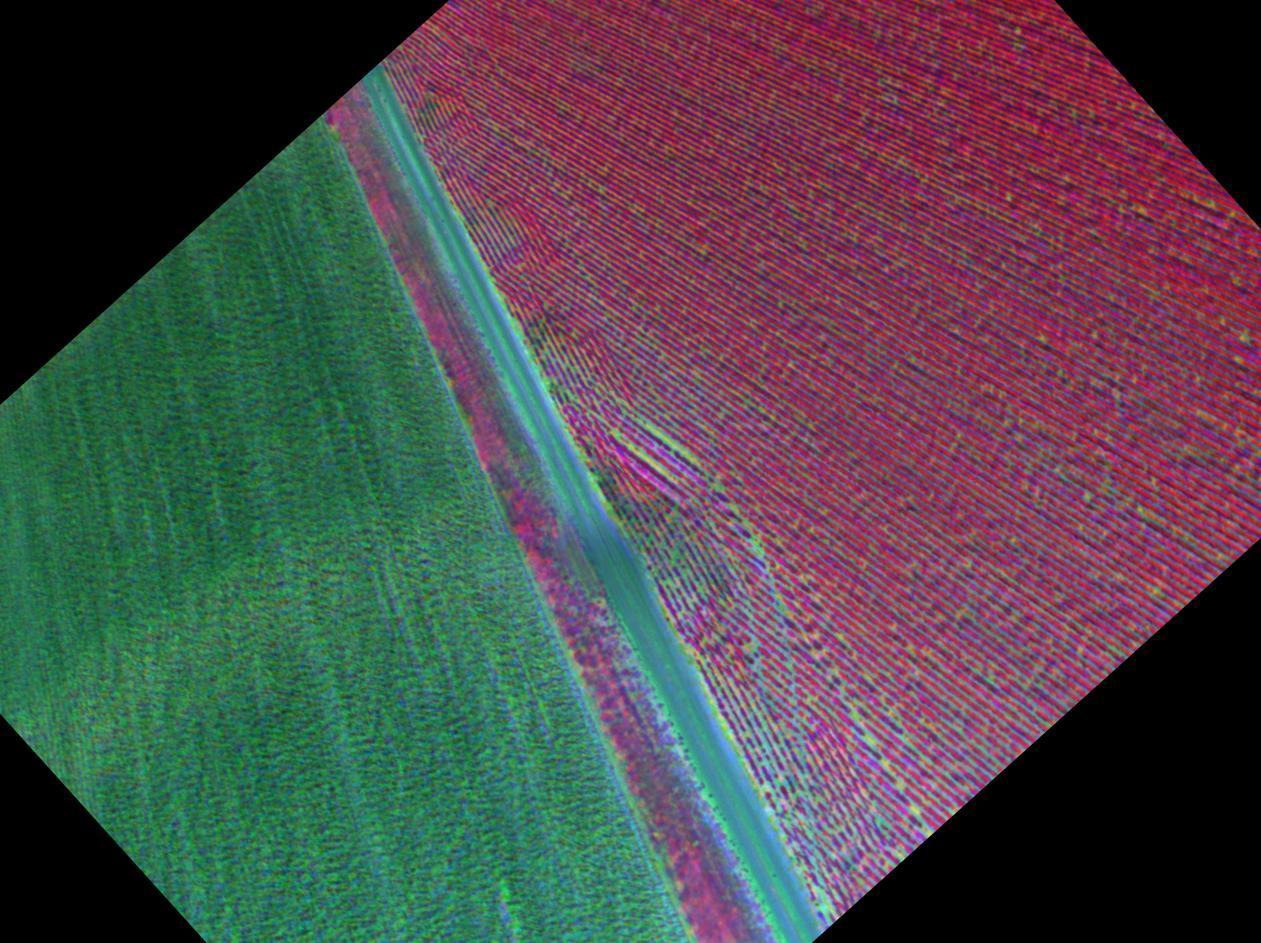dc: (663, 436, 668, 440), (744, 523, 749, 527), (751, 643, 755, 648), (1084, 496, 1088, 499), (613, 431, 616, 434), (716, 486, 719, 488)
